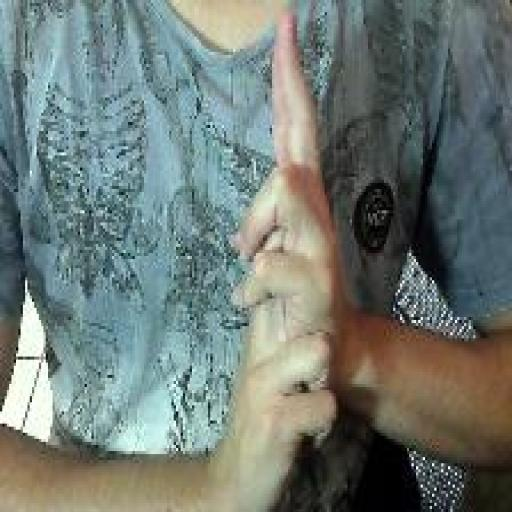Hitsuji -ram-: (227, 6, 342, 509)
